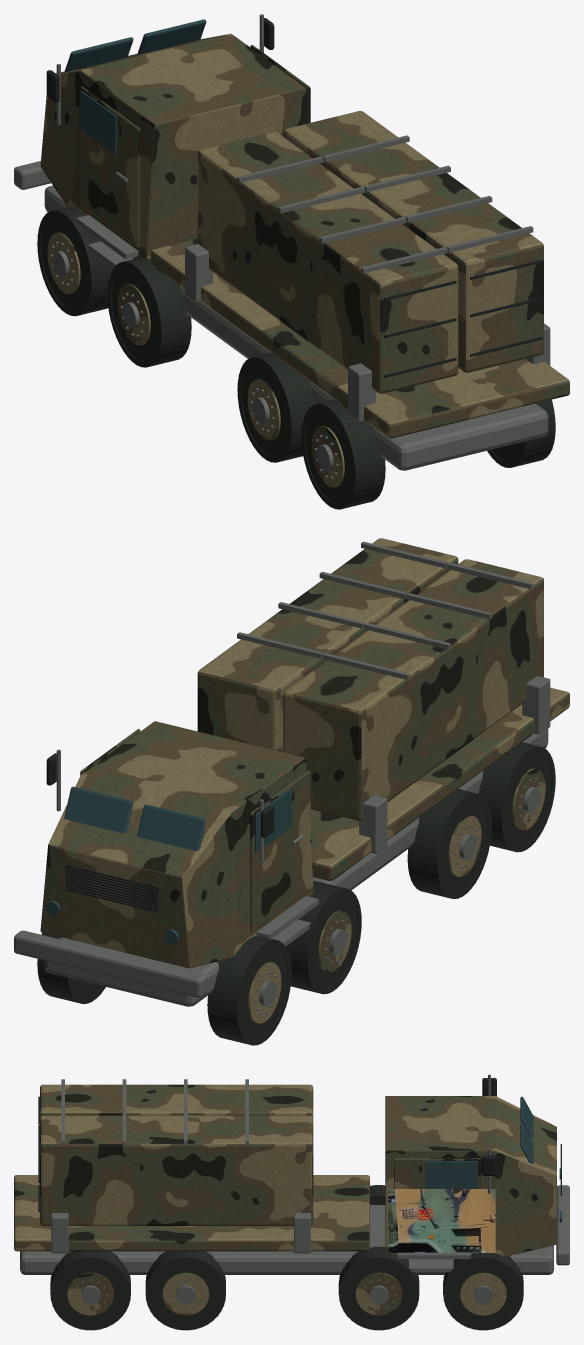
File: chunmoo-referenced-v2.glb
3 renders of one model, top to bottom at view 1: azimuth 30°, elevation 25°; view 2: azimuth 150°, elevation 25°; view 3: azimuth 270°, elevation 25°, orthographic. The views are drawn at different scales.
Visible parts, largest first — view 1: ClosedExternalHousings_Authored Korean camouflage, Hull_Authored Korean camouflage, Hull_Rubber, Hull_Exposed steel, ClosedExternalHousings_Exposed steel, Hull_Optical glass, ClosedExternalHousings_Recess, Hull_Recess; view 2: Hull_Authored Korean camouflage, ClosedExternalHousings_Authored Korean camouflage, Hull_Rubber, Hull_Exposed steel, Hull_Optical glass, ClosedExternalHousings_Exposed steel, Hull_Recess; view 3: ClosedExternalHousings_Authored Korean camouflage, Hull_Authored Korean camouflage, Hull_Rubber, Hull_Exposed steel, Hull_Chunmoo photographed cab side photo material, Hull_Optical glass, ClosedExternalHousings_Exposed steel, Hull_Recess.
Boxes of the visible parts, x1,y1,x2,y2 form: ClosedExternalHousings_Authored Korean camouflage: [197, 111, 543, 393]; Hull_Authored Korean camouflage: [40, 33, 569, 487]; Hull_Rubber: [37, 206, 555, 509]; Hull_Exposed steel: [14, 14, 550, 479]; ClosedExternalHousings_Exposed steel: [237, 135, 533, 273]; Hull_Optical glass: [64, 19, 206, 154]; ClosedExternalHousings_Recess: [384, 260, 542, 377]; Hull_Recess: [46, 18, 274, 102]; Hull_Authored Korean camouflage: [40, 687, 569, 1023]; ClosedExternalHousings_Authored Korean camouflage: [197, 538, 543, 820]; Hull_Rubber: [37, 742, 555, 1045]; Hull_Exposed steel: [14, 676, 550, 1015]; Hull_Optical glass: [46, 786, 291, 944]; ClosedExternalHousings_Exposed steel: [237, 541, 533, 679]; Hull_Recess: [46, 753, 274, 912]; ClosedExternalHousings_Authored Korean camouflage: [40, 1084, 313, 1225]; Hull_Authored Korean camouflage: [14, 1096, 556, 1315]; Hull_Rubber: [50, 1185, 523, 1330]; Hull_Exposed steel: [20, 1074, 569, 1310]; Hull_Chunmoo photographed cab side photo material: [388, 1189, 495, 1252]; Hull_Optical glass: [425, 1096, 561, 1222]; ClosedExternalHousings_Exposed steel: [61, 1079, 248, 1144]; Hull_Recess: [482, 1078, 561, 1195].
Bounding box in the file's own units: 3.08 × 3.31 × 9.06.
6 materials, 2 textured.
